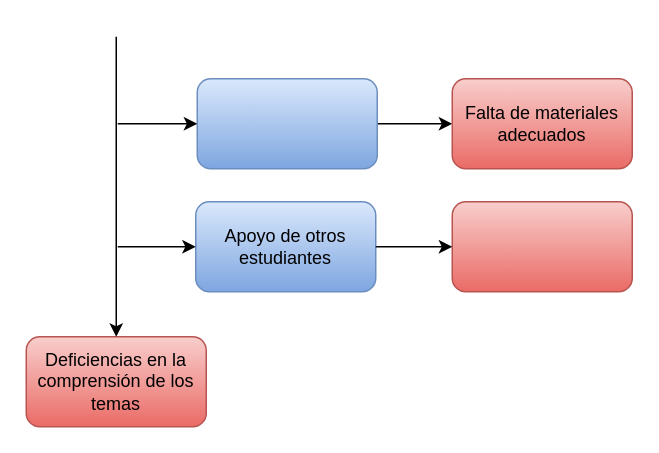
This 659x453 diagram has some shape labels left out. The centre of each missing label's shape, as x and y in pixels:
"Falta de reconocimiento a estudiantes que ofrecen apoyo" goes at point (541, 246).
"Materiales de apoyo" goes at point (286, 123).
